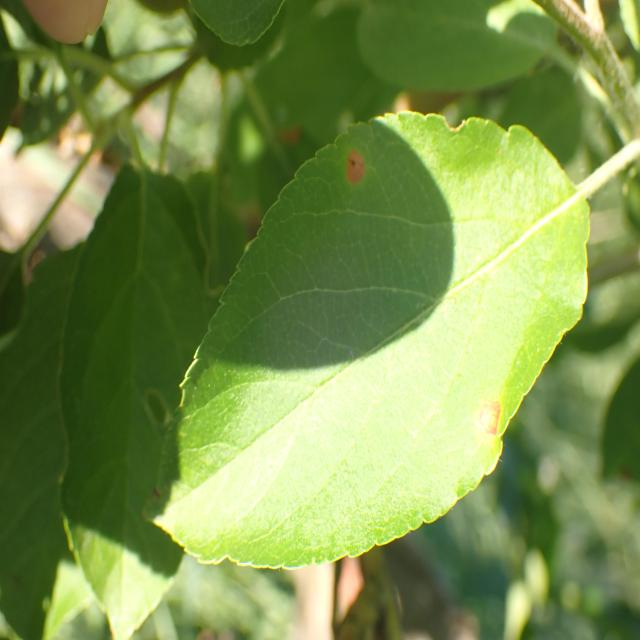Black Rot: (466, 390, 508, 450), (339, 136, 371, 202)
